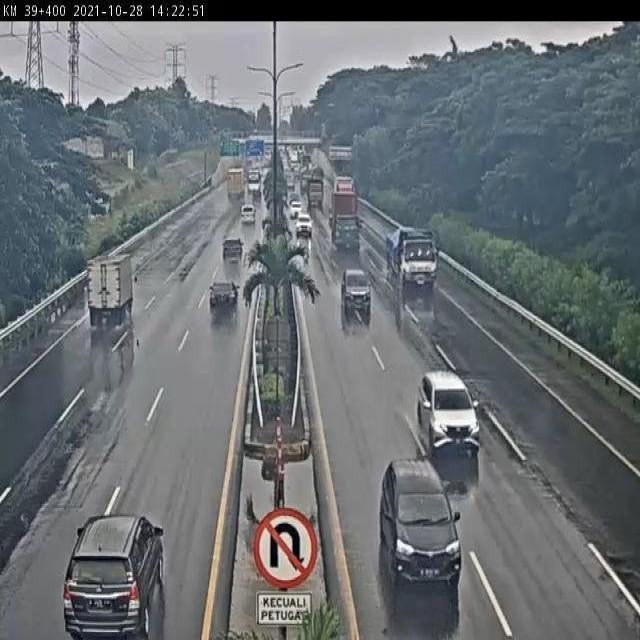car: (62, 513, 166, 640)
truck-l-: (387, 225, 442, 292)
truck-m-: (87, 253, 139, 324)
truck-xl-: (332, 190, 364, 250)
